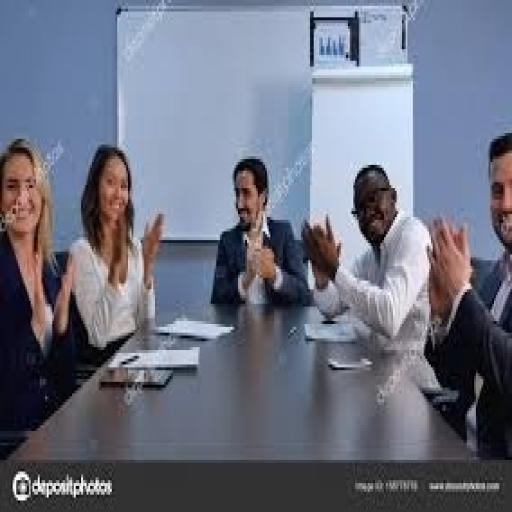clapping: (422, 130, 510, 460), (300, 159, 434, 344), (0, 136, 76, 454), (65, 142, 166, 379), (209, 154, 310, 312)
